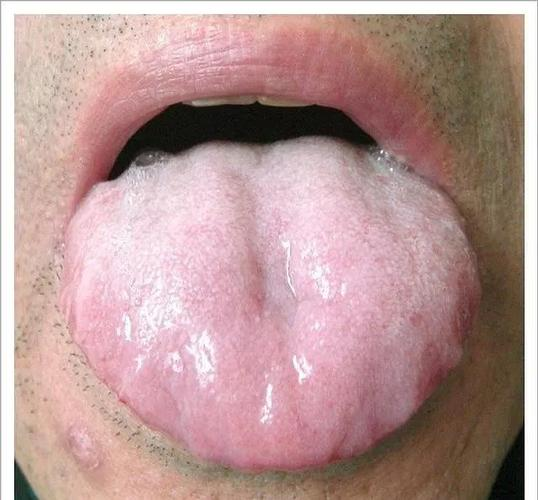baitaishe: (59, 135, 481, 474)
chihenshe: (59, 249, 179, 436), (408, 281, 480, 412)
pangdashe: (59, 135, 481, 474)
